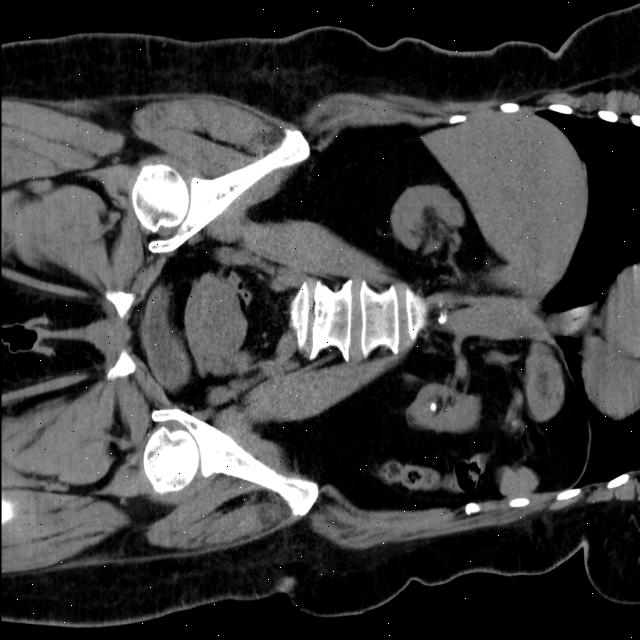kidneystone: (429, 401, 436, 413)
